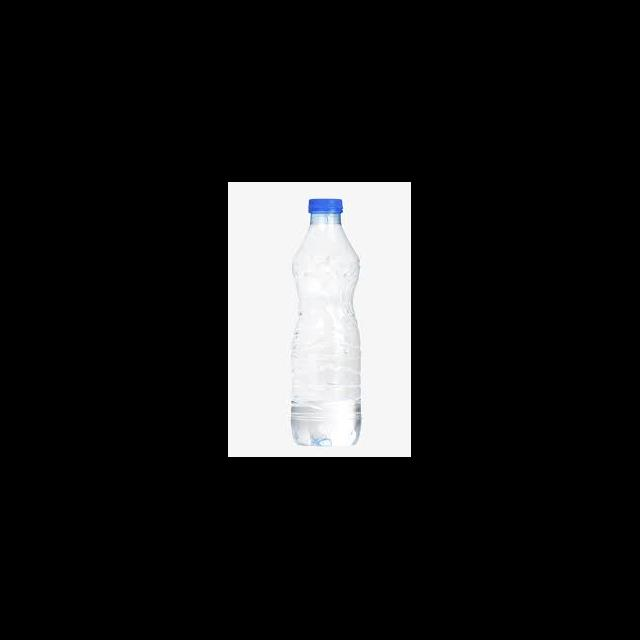plastic: (292, 198, 361, 447), (308, 198, 342, 215)
